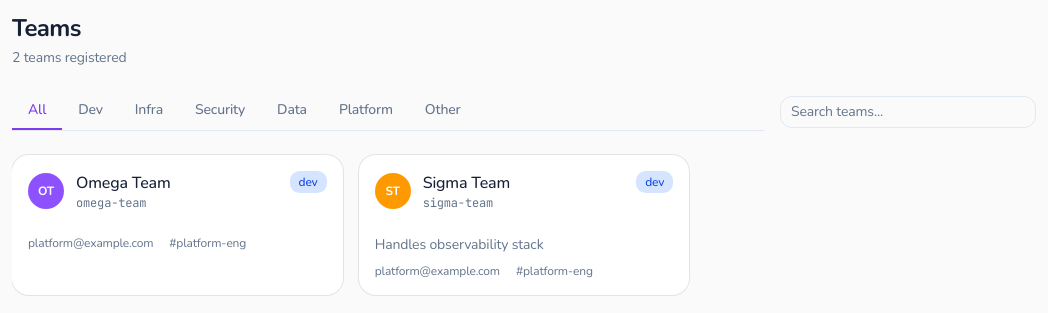
Test: TeamsClient › excludes a team with no description when the search query has no match
Expected: the text "Omega Team" is shown, [76,171,171,195]
// Type a query that matches only the description of t2
Step 1. Type "observability" into the field with placeholder "Search teams..." → (908, 112), box [780,96,1036,128]
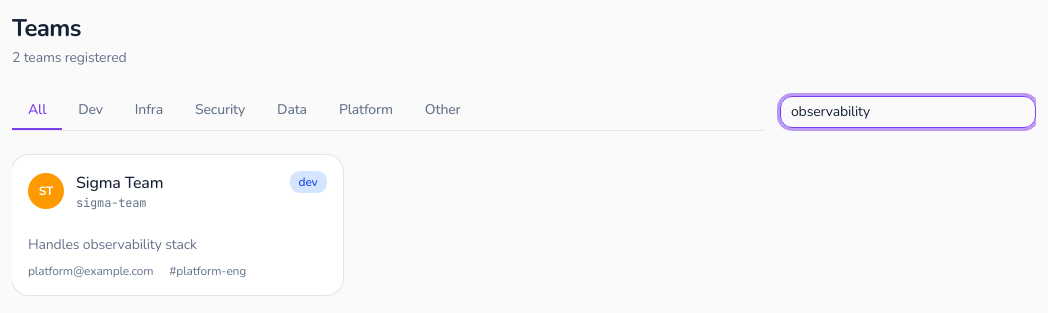
Expected: the text "Sigma Team" is shown, [76,171,163,195]
Result: the link "Omega Team" is gone
